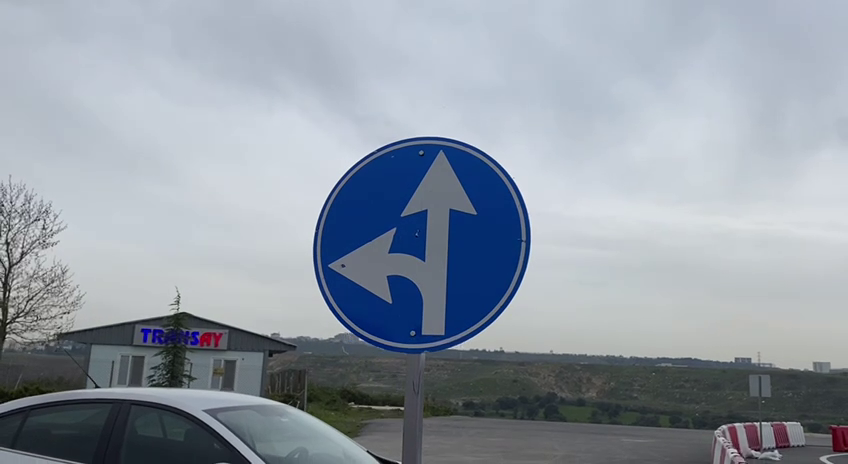forwardAndLeft: (308, 132, 537, 356)
